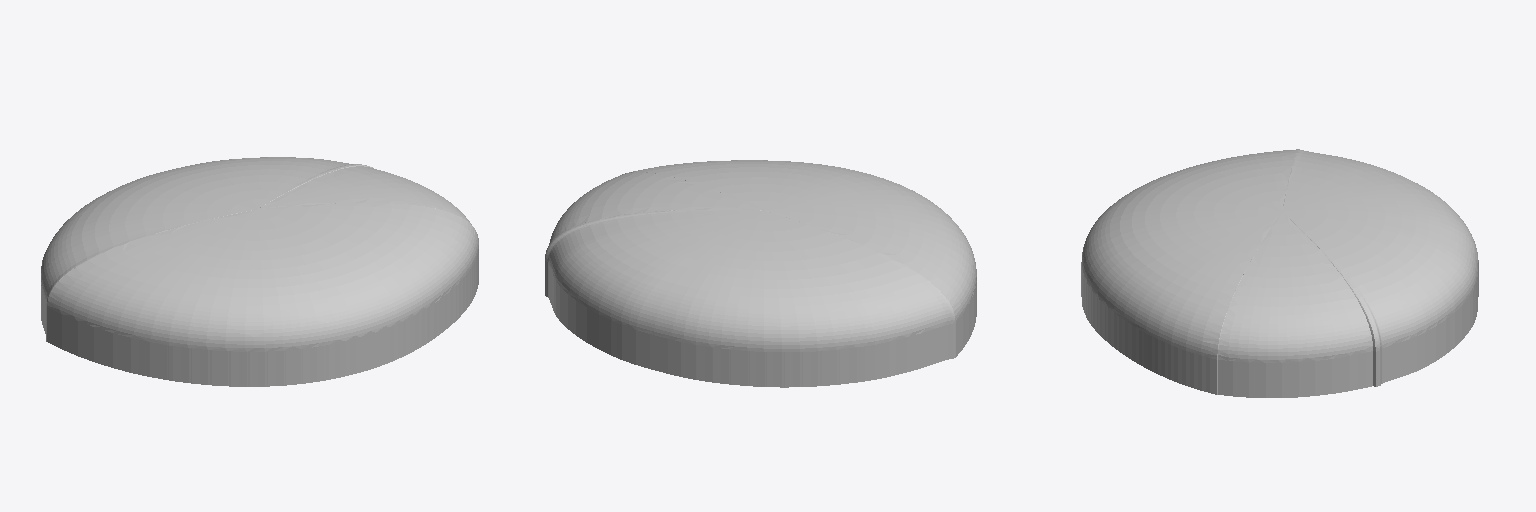
Rendered from yolk.obj.
3 views of the same model, side by side, from view 1: azimuth 30°, elevation 25°; view 2: azimuth 150°, elevation 25°; view 3: azimuth 270°, elevation 25° (orthographic).
Parts seen in each view (by area): view 1: yolk_Yolk; view 2: yolk_Yolk; view 3: yolk_Yolk.
Part boxes in pixels (bbox=[...]): yolk_Yolk: bbox=[41, 157, 478, 386]; yolk_Yolk: bbox=[545, 160, 976, 387]; yolk_Yolk: bbox=[1081, 149, 1478, 397].
Bounding box in the file's own units: 0.4942 × 0.1082 × 0.4282.